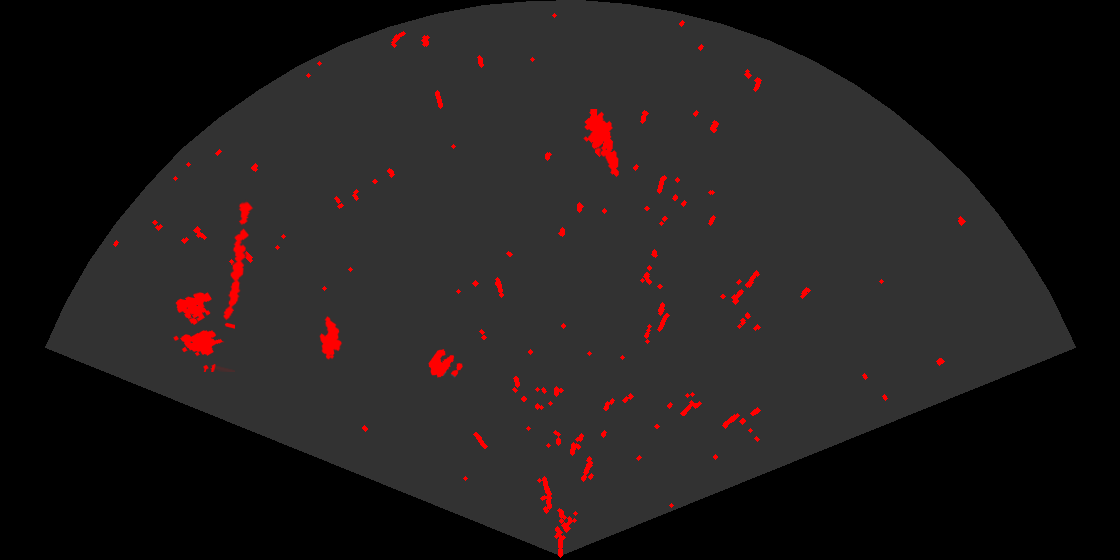AUV: (318, 314, 344, 361)
ball: (427, 347, 464, 379)
cage: (172, 291, 235, 372)
chain: (222, 199, 255, 322)
frogman: (582, 109, 621, 178)
